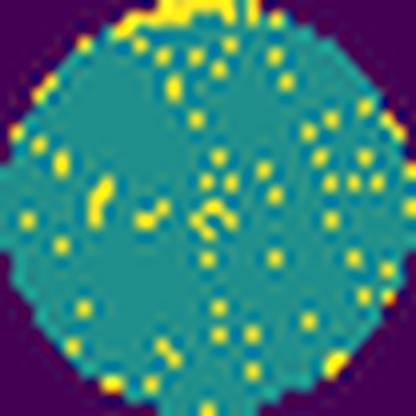Edge-Loc: (106, 0, 241, 47)
